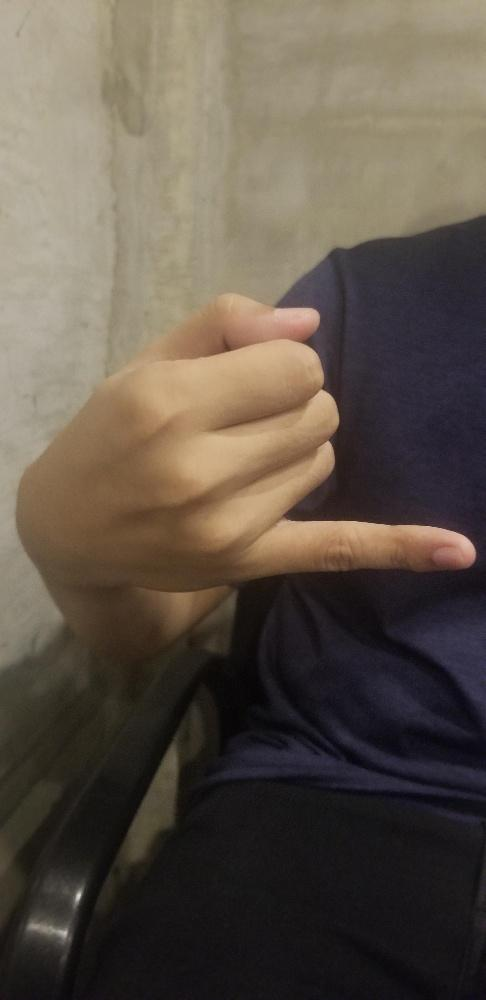j: (56, 292, 478, 580)
